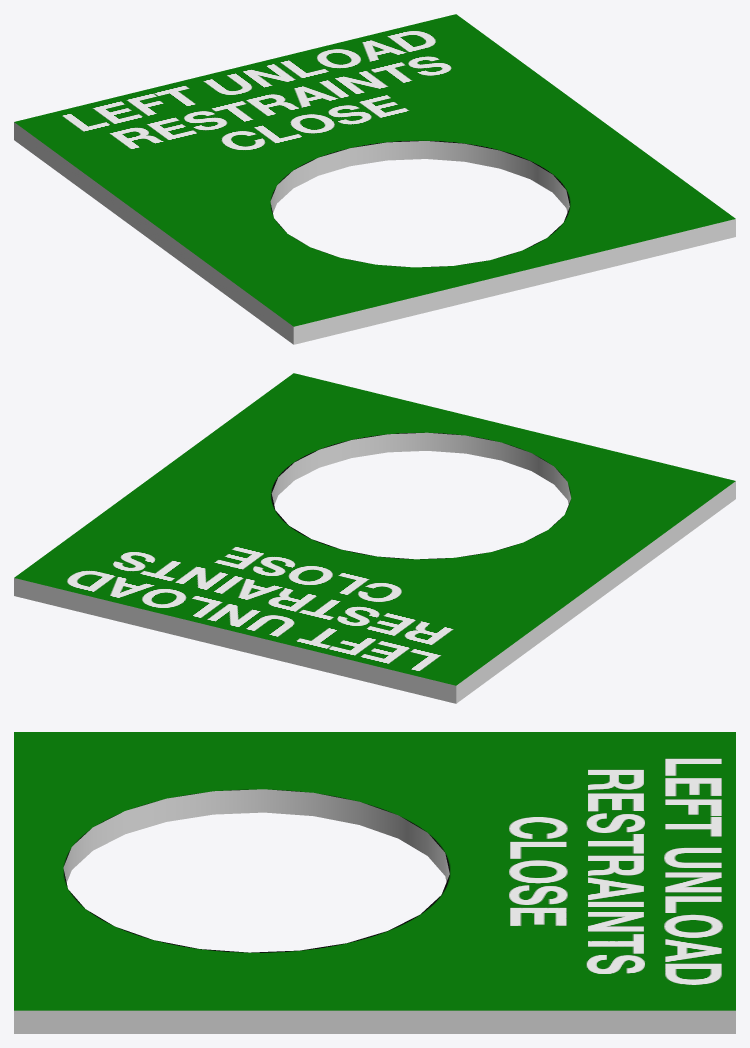
The model's file is leftunloadrestraintsclose.dae.
The picture shows the model from 3 angles, top to bottom: view 1: azimuth 30°, elevation 25°; view 2: azimuth 150°, elevation 25°; view 3: azimuth 270°, elevation 25°; orthographic projection. The views are drawn at different scales.
Visible parts, largest first — view 1: SketchUp (×3); view 2: SketchUp (×3); view 3: SketchUp (×3).
Boxes of the visible parts, x1=… form: SketchUp (×3): x1=14, y1=14, x2=735, y2=344; SketchUp (×3): x1=14, y1=373, x2=735, y2=703; SketchUp (×3): x1=14, y1=732, x2=735, y2=1033.
Bounding box in the file's own units: 2.01 × 2.2 × 0.0787.
2 materials, 1 textured.
